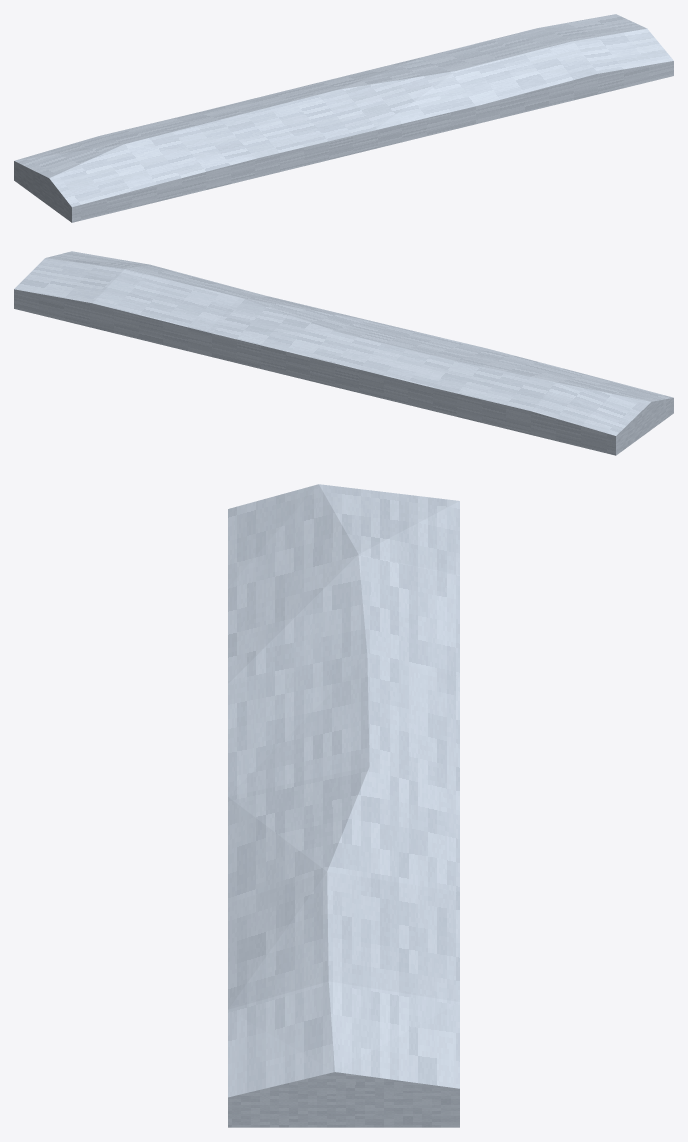
The model's file is snow_porch_edge.glb.
3 renders of one model, top to bottom at view 1: azimuth 30°, elevation 25°; view 2: azimuth 150°, elevation 25°; view 3: azimuth 270°, elevation 25°, orthographic. The views are drawn at different scales.
Parts seen in each view (by area): view 1: snow_porch_edge; view 2: snow_porch_edge; view 3: snow_porch_edge.
Boxes of the visible parts, x1,y1,x2,y2 form: snow_porch_edge: (14,14,673,222); snow_porch_edge: (14,251,673,455); snow_porch_edge: (228,484,459,1127).
Bounding box in the file's own units: 1.8 × 0.1 × 0.3.
1 material, 1 textured.
